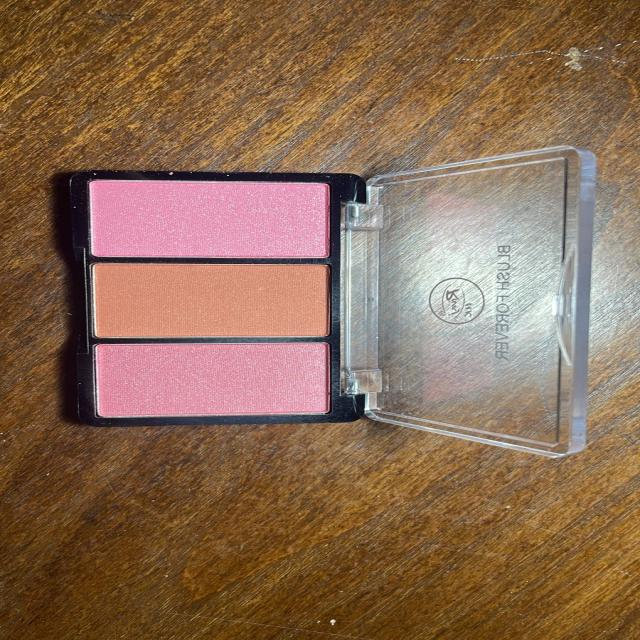blush: (73, 171, 344, 424), (76, 166, 342, 262), (76, 251, 349, 343), (86, 339, 344, 420)
